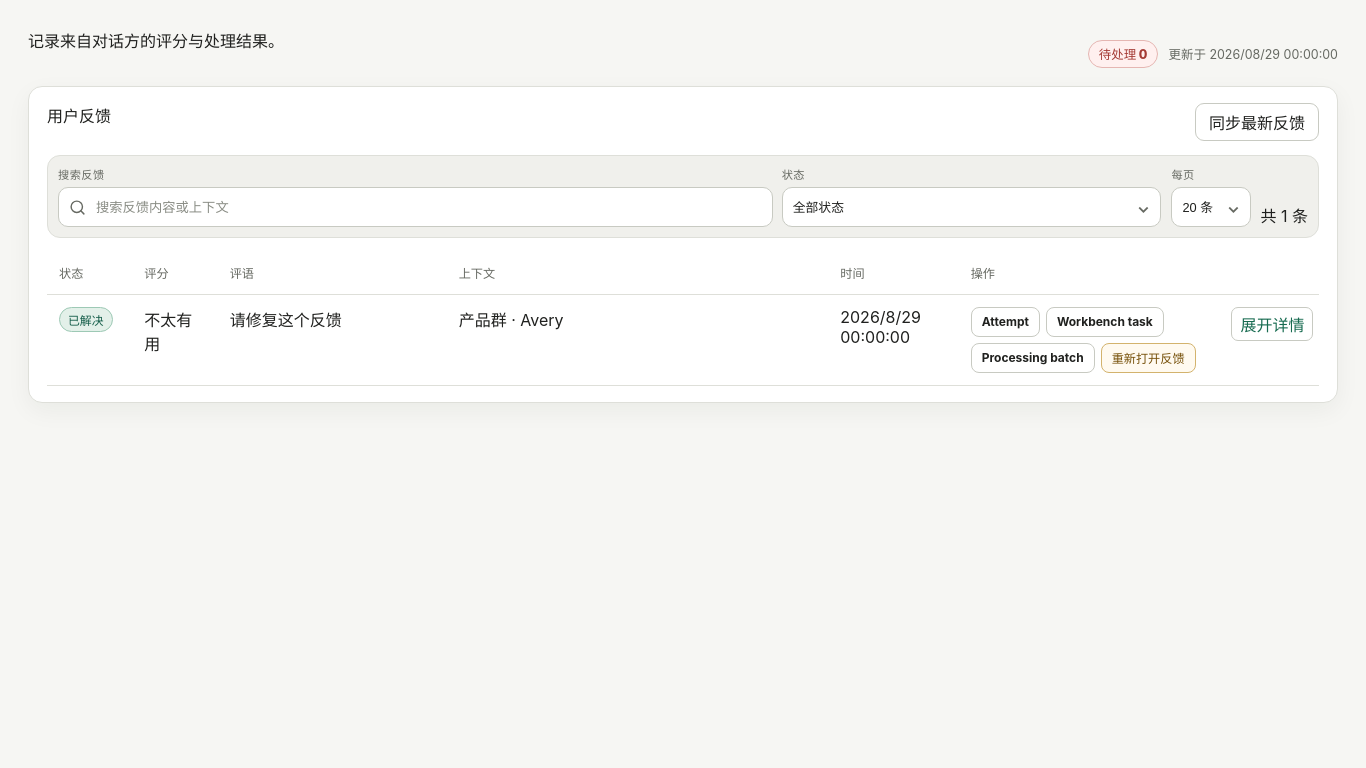
Test: FeedbackPage › closes on success, refreshes the pending projection and shows success feedback
Click the button "重新打开反馈" at (1148, 358), box [1101,343,1196,373]
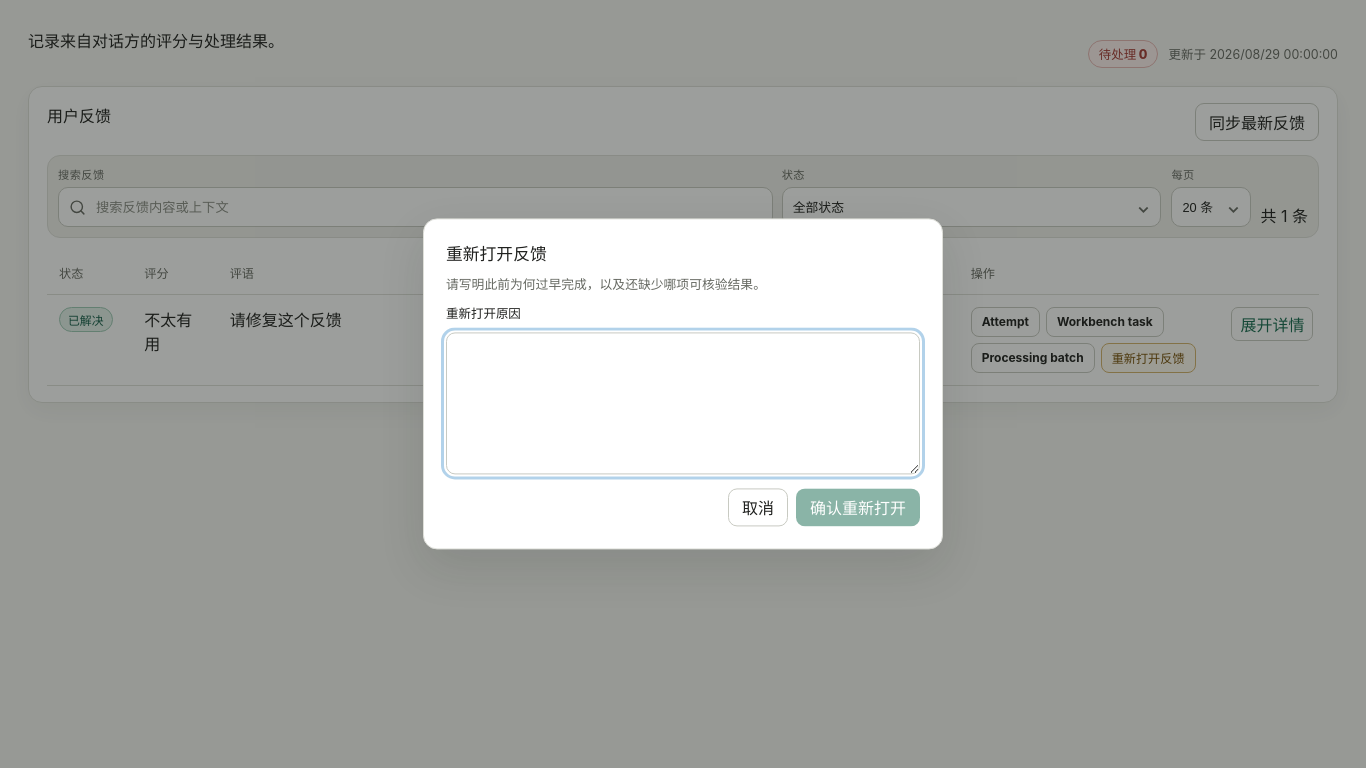
Type "服务重启前就被标记完成，尚未验证新进程。" into the text box labelled "重新打开原因" at (683, 404), box [446,333,920,475]
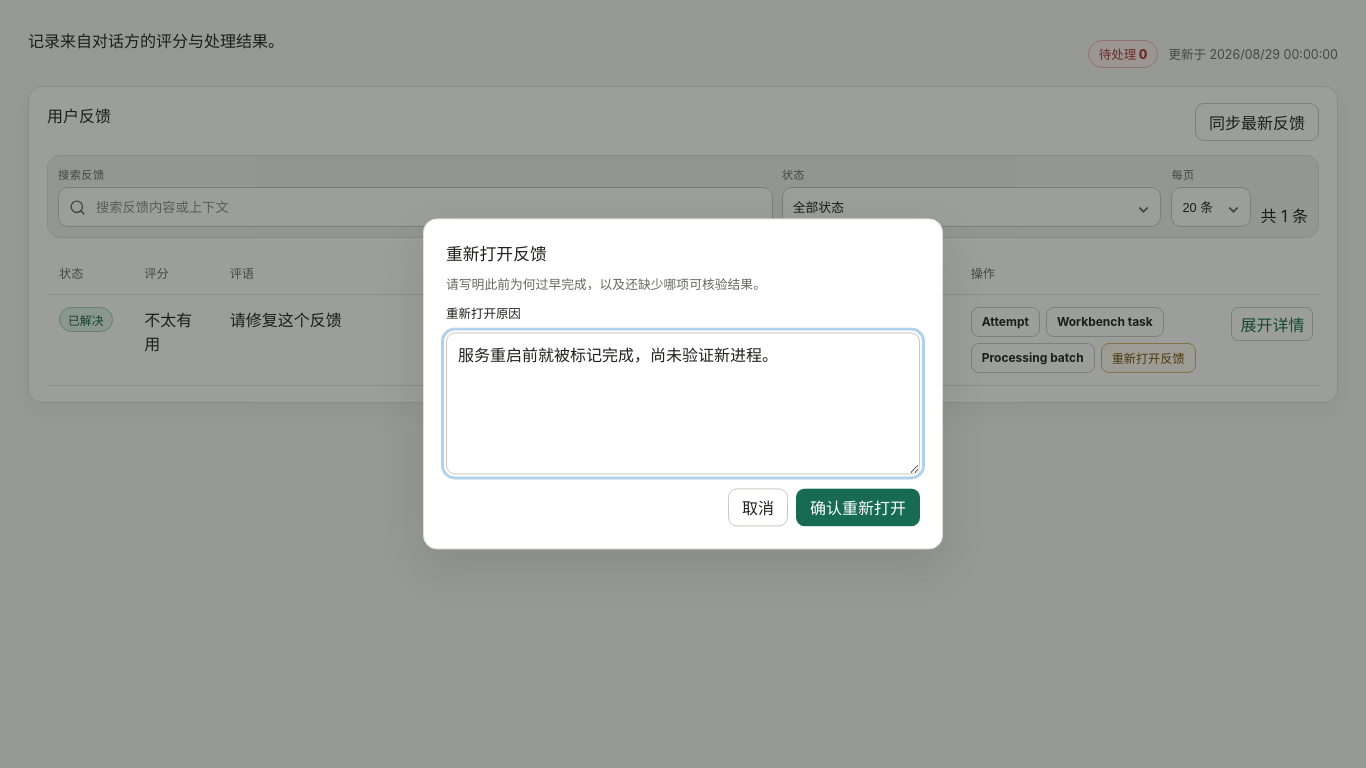
Click the button "确认重新打开" at (858, 508), box [796,489,920,527]
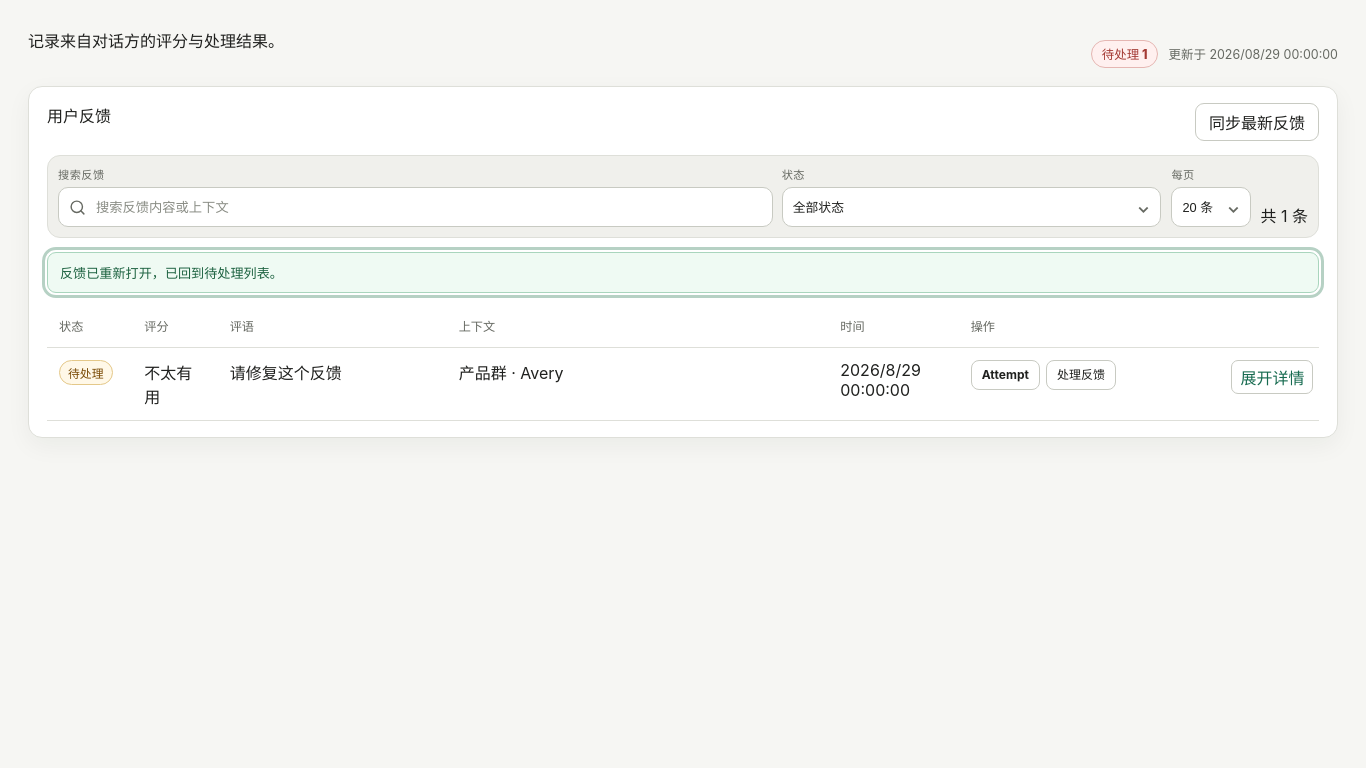
Check: the message named "操作成功" reads "反馈已重新打开，已回到待处理列表。", box [60,265,283,281]
Check: the button "重新打开反馈" is gone
Check: the text "待处理 1" is shown, box [1091,40,1158,68]
